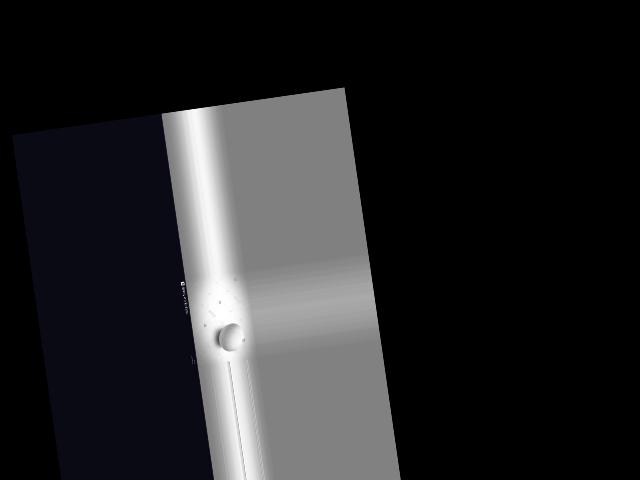egg: (216, 322, 245, 353)
